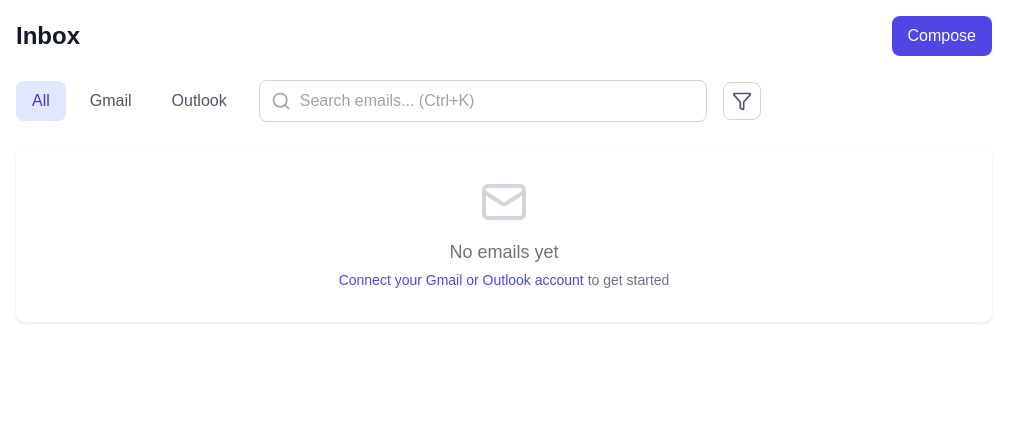
Test case: InboxPage › filter panel toggles on button click
Check: the text "Email Account:" is not shown
Click the button named "toggle filters" at (742, 101), box [723,82,761,120]
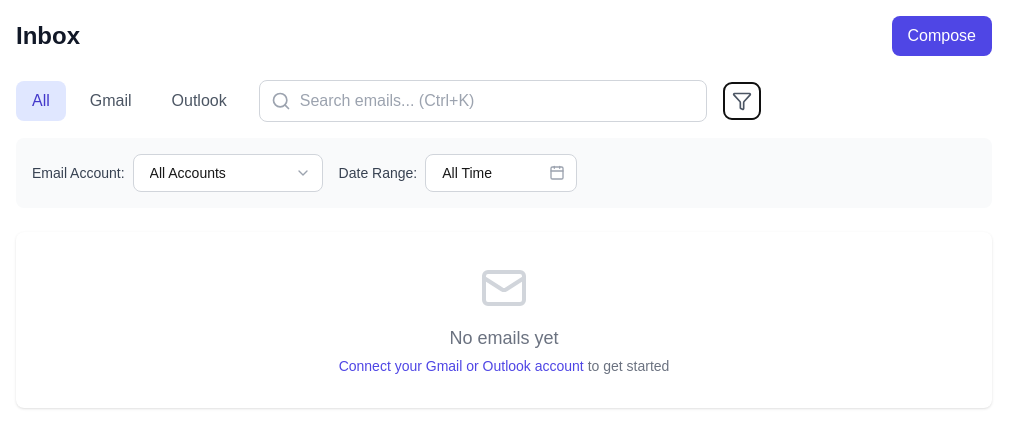
Check: the button named "toggle filters" is expanded, box [723,82,761,120]
Check: the text "Email Account:" is shown, box [32,163,125,183]
Check: the text "Date Range:" is shown, box [339,163,417,183]
